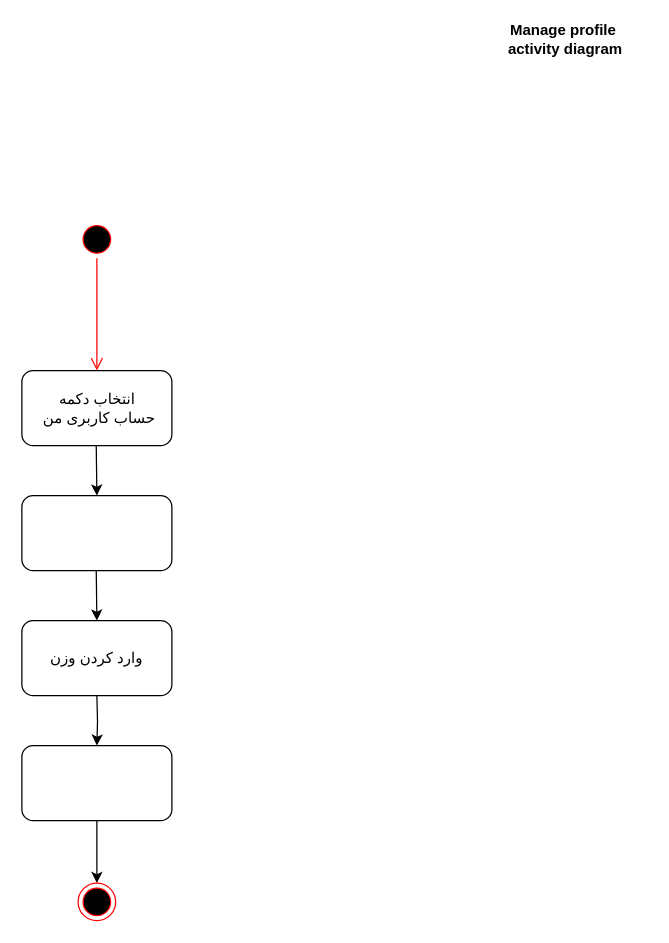
Some shapes in this 669 by 943 pixel diagram are drawn without their labels. The box of each missing label's shape, as (x1, y1, x2, y2) in pixels:
ثبت اطلاعات در پایگاه داده: (21, 744, 172, 821)
وارد کردن قد: (21, 494, 172, 571)
